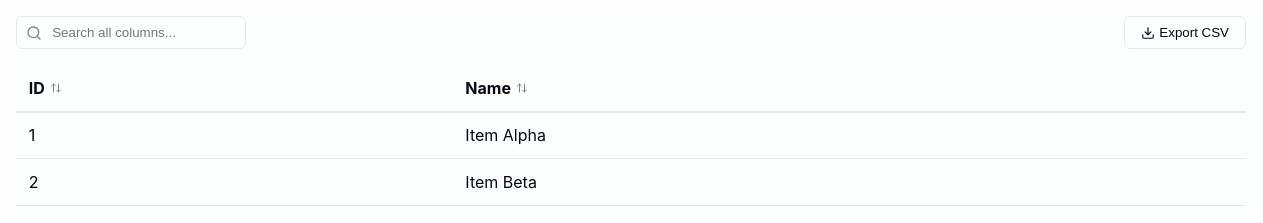
Test: AdvancedTable tests › Filters rows based on search input
Type "Alpha" into the field with placeholder "Search all columns..." at (131, 32), box [16,16,246,49]
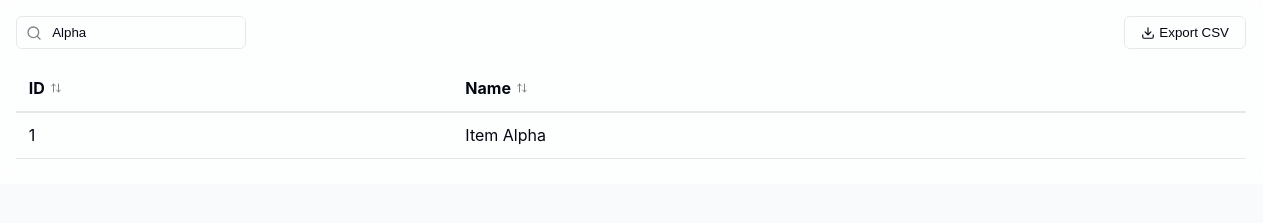
Expected: the text "Item Alpha" is shown, [453,112,1246,159]
Expected: the text "Item Beta" is gone
